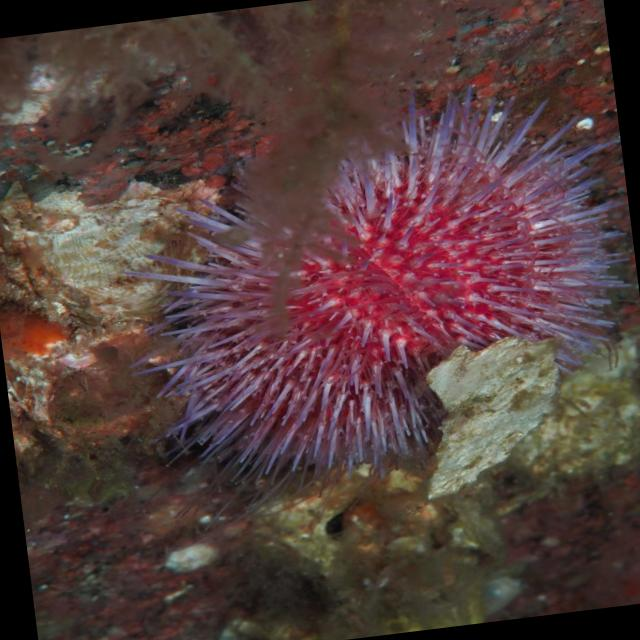Deniz Kestanesi: (95, 61, 640, 516)
